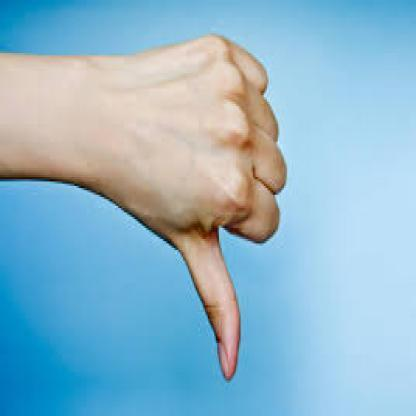thumb_down: (123, 28, 289, 390)
